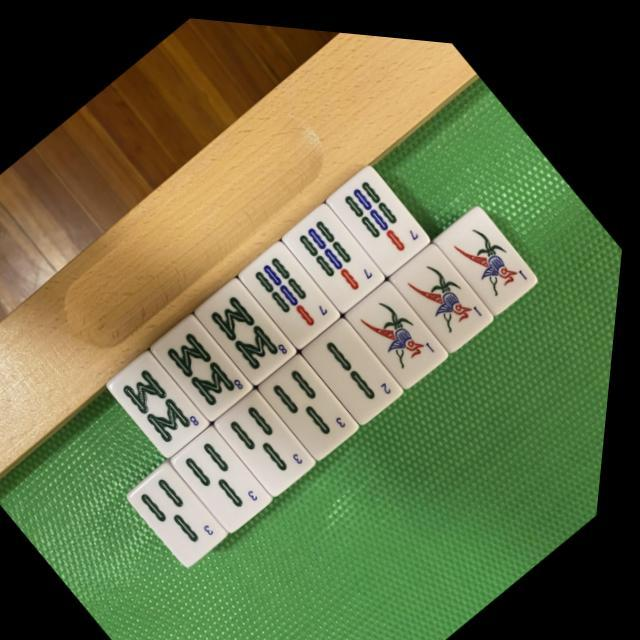sb1: (432, 192, 547, 308), (388, 230, 502, 344), (346, 270, 458, 382)
sb2: (300, 306, 414, 420)
sb3: (173, 417, 286, 530), (215, 380, 328, 493), (259, 342, 371, 454), (130, 454, 241, 565)
sb7: (278, 191, 394, 308), (322, 153, 438, 270), (236, 231, 350, 346)
sb8: (192, 267, 308, 382), (150, 305, 264, 419), (108, 343, 221, 456)
